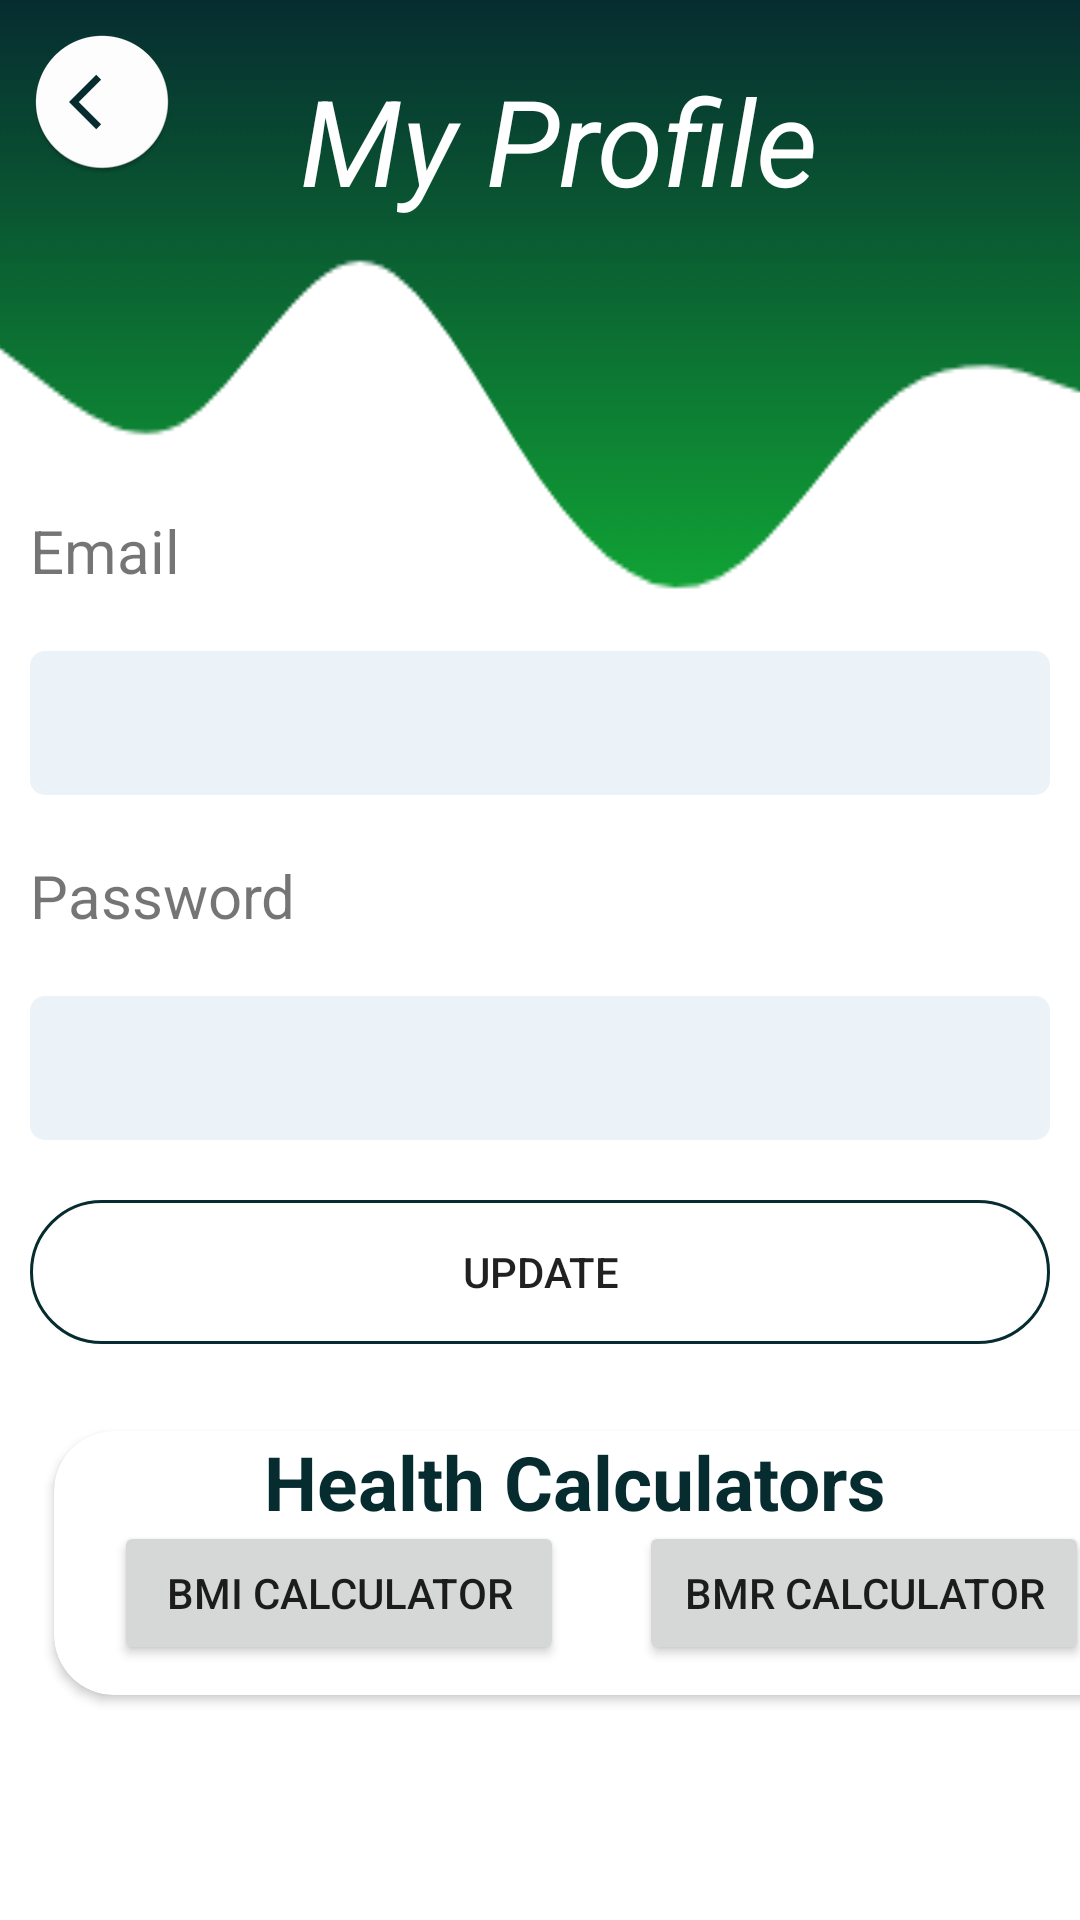

Icons on this 1080x1920 Android screen, each with the point to tap as point (x, y):
back: point (102, 101)
